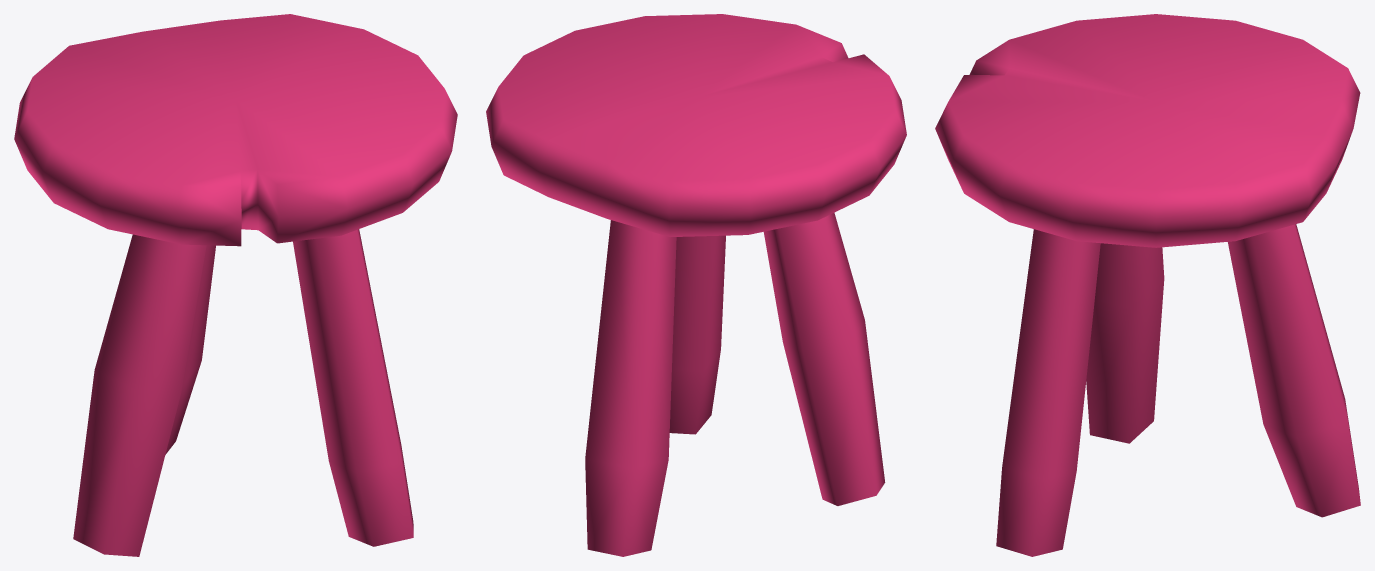
Rendered from Stool_01_Lod.fbx.
The picture shows the model from 3 angles, left to right: view 1: azimuth 30°, elevation 25°; view 2: azimuth 150°, elevation 25°; view 3: azimuth 270°, elevation 25°; orthographic projection. The views are drawn at different scales.
Visible parts, largest first — view 1: Stool_01_Lod; view 2: Stool_01_Lod; view 3: Stool_01_Lod.
Boxes of the visible parts, left/top/right/bottom form: Stool_01_Lod: left=14, top=14, right=457, bottom=556; Stool_01_Lod: left=486, top=14, right=906, bottom=556; Stool_01_Lod: left=935, top=14, right=1360, bottom=556.
Bounding box in the file's own units: 45.38 × 46.11 × 43.71.
